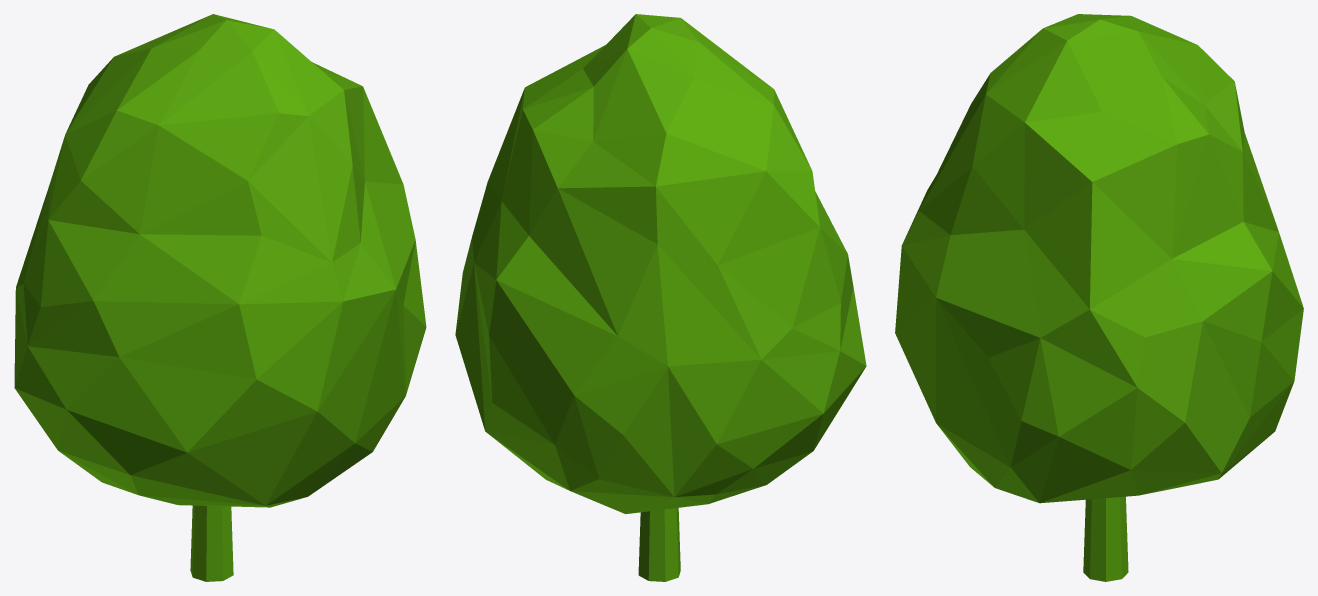
Rendered from ShrubTreeB.fbx.
The picture shows the model from 3 angles, left to right: view 1: azimuth 30°, elevation 25°; view 2: azimuth 150°, elevation 25°; view 3: azimuth 270°, elevation 25°; orthographic projection. The views are drawn at different scales.
Parts seen in each view (by area): view 1: ShrubTreeB_geo; view 2: ShrubTreeB_geo; view 3: ShrubTreeB_geo.
Part boxes in pixels (x1=…): ShrubTreeB_geo: x1=14, y1=14, x2=426, y2=581; ShrubTreeB_geo: x1=455, y1=14, x2=866, y2=581; ShrubTreeB_geo: x1=895, y1=14, x2=1303, y2=581.
Size of the model in its own units: 327 by 466 by 309.
